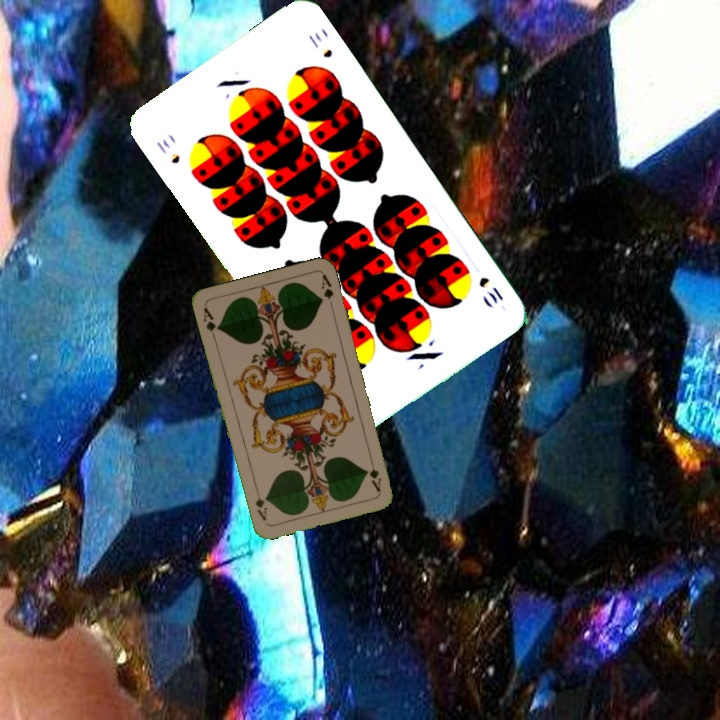GA: (199, 303, 222, 342), (365, 454, 384, 494)
S10: (474, 272, 506, 306), (152, 134, 183, 167)
